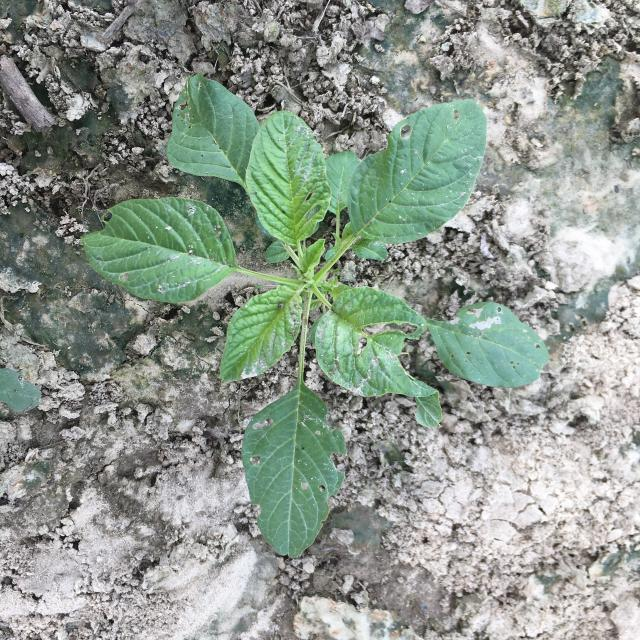PalmerAmaranth: (79, 72, 550, 559)
